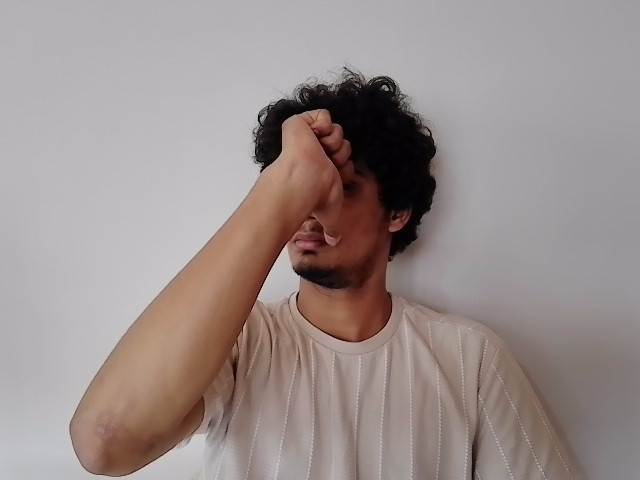drink: (264, 106, 394, 282)
